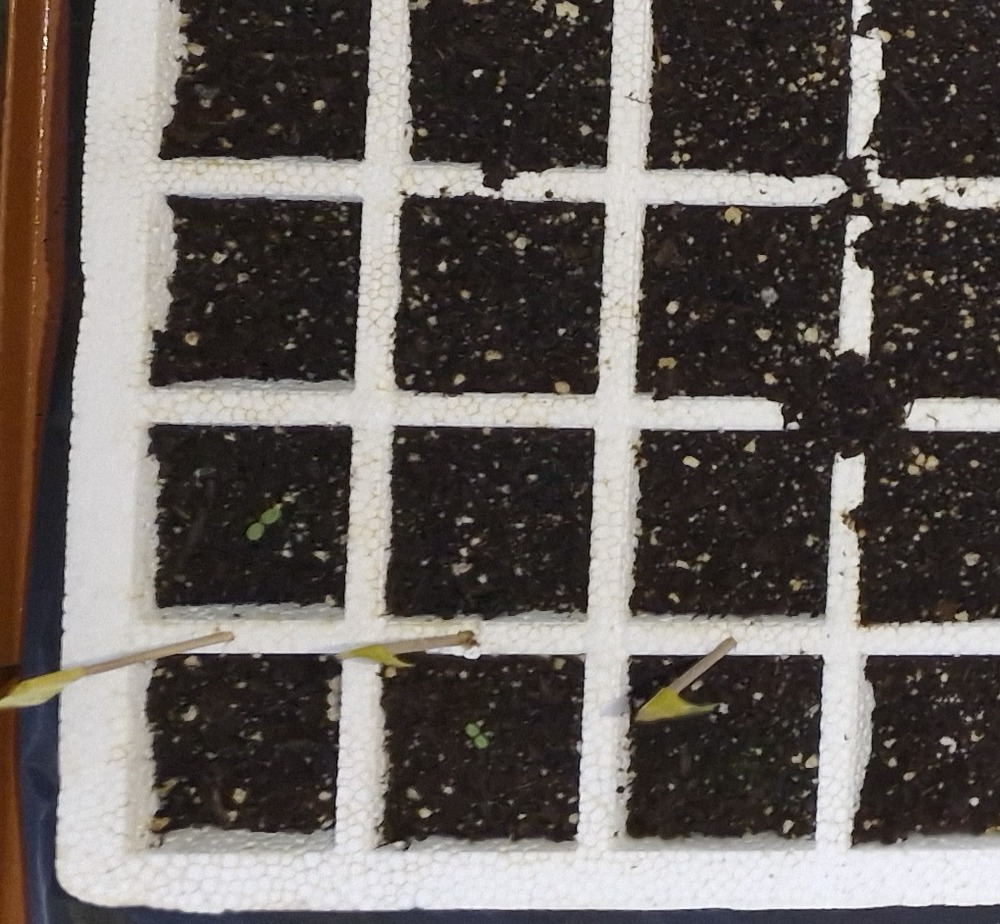Folha: (262, 508, 280, 524), (247, 523, 264, 539), (476, 735, 489, 748), (467, 723, 479, 736)
Germinacao: (247, 508, 282, 541), (466, 723, 489, 749)
